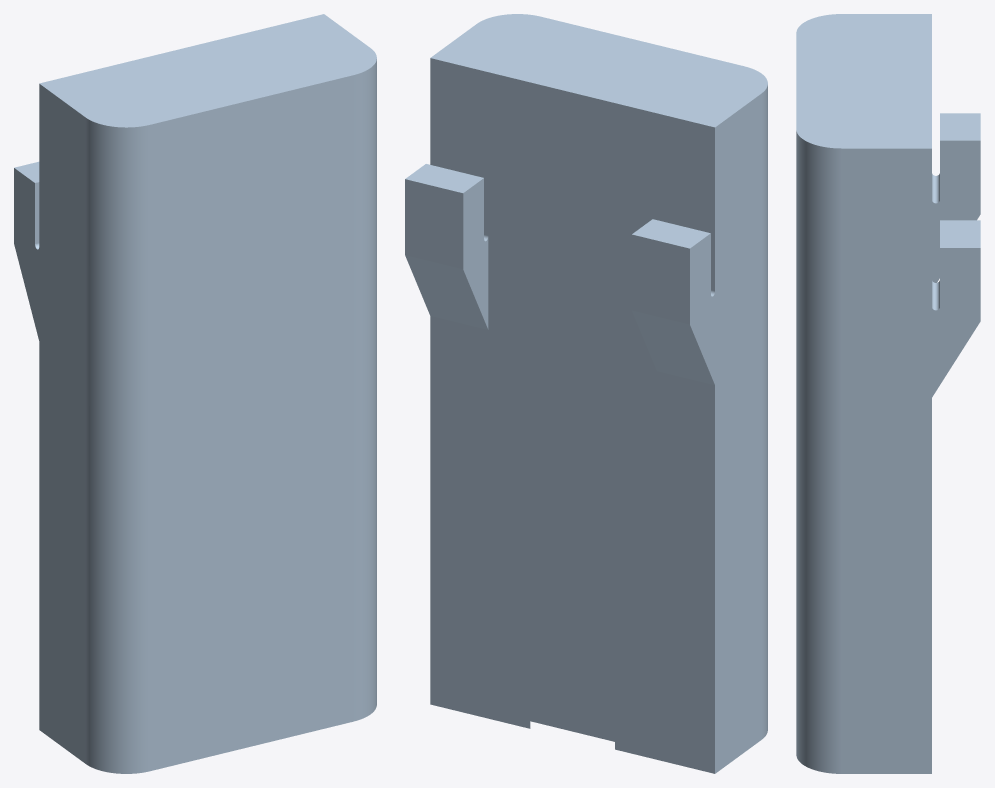
File: tattler-model.glb
3 renders of one model, left to right at view 1: azimuth 30°, elevation 25°; view 2: azimuth 150°, elevation 25°; view 3: azimuth 270°, elevation 25°, orthographic. The views are drawn at different scales.
Visible parts, largest first — view 1: Enclosure; view 2: Enclosure; view 3: Enclosure.
Boxes of the visible parts, box(x1,y1,x2,y2) form: Enclosure: box(14, 14, 376, 773); Enclosure: box(405, 14, 767, 773); Enclosure: box(796, 14, 980, 773).
Size of the model in its own units: 0.0392 by 0.085 by 0.0227.
